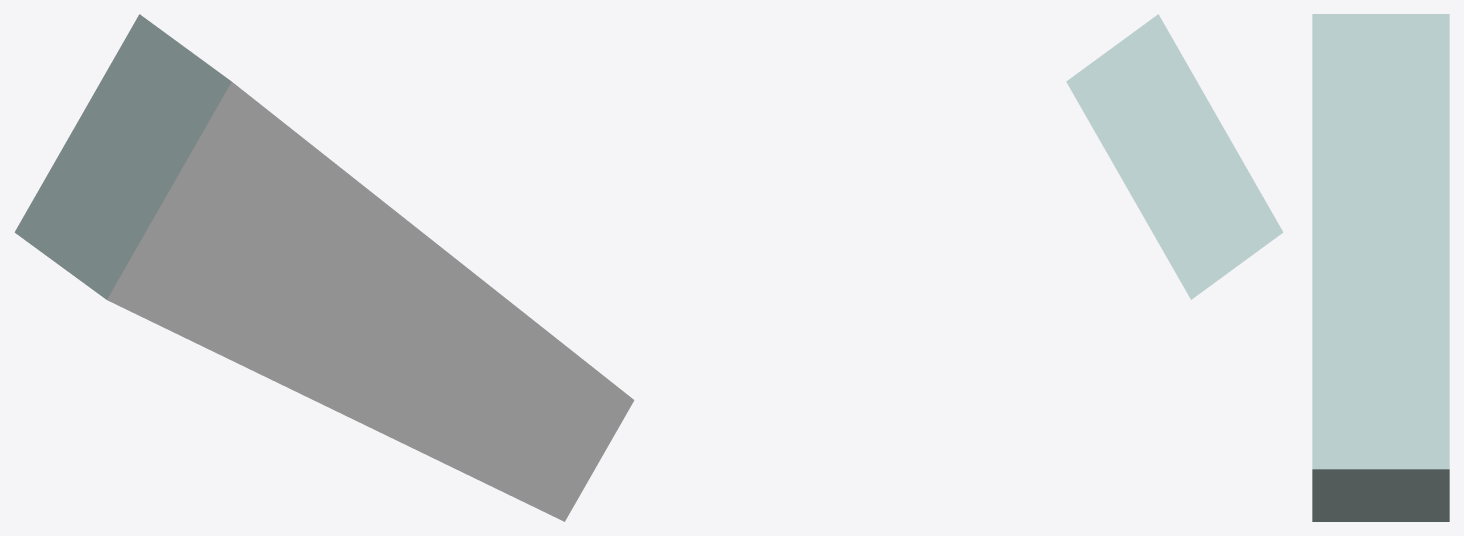
3 views of the same model, side by side, from view 1: azimuth 30°, elevation 25°; view 2: azimuth 150°, elevation 25°; view 3: azimuth 270°, elevation 25° (orthographic). The views are drawn at different scales.
Visible parts, largest first — view 1: 0_2_3_3_3_1_2_2_1; view 2: 0_2_3_3_3_1_2_2_1; view 3: 0_2_3_3_3_1_2_2_1.
Part boxes in pixels (x1=…): 0_2_3_3_3_1_2_2_1: x1=14, y1=14, x2=634, y2=521; 0_2_3_3_3_1_2_2_1: x1=1066, y1=14, x2=1283, y2=299; 0_2_3_3_3_1_2_2_1: x1=1312, y1=14, x2=1449, y2=521.
Size of the model in its own units: 9.89 by 9.35 by 3.
